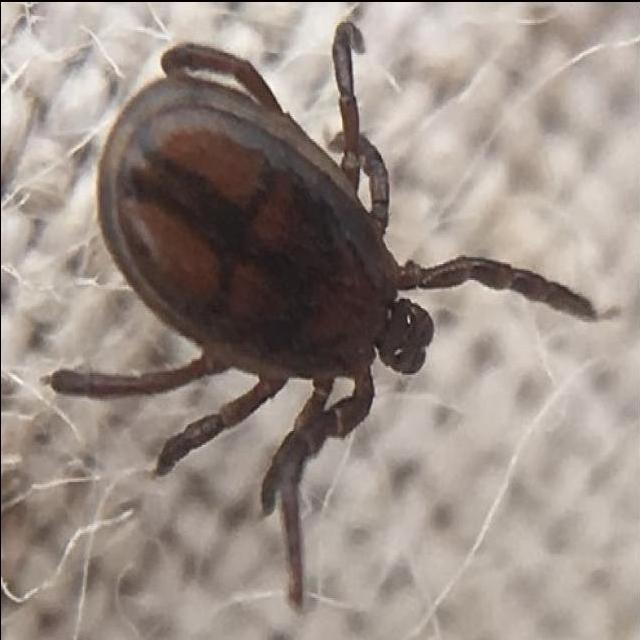Ixodes Ricinus-M: (49, 14, 601, 608)
